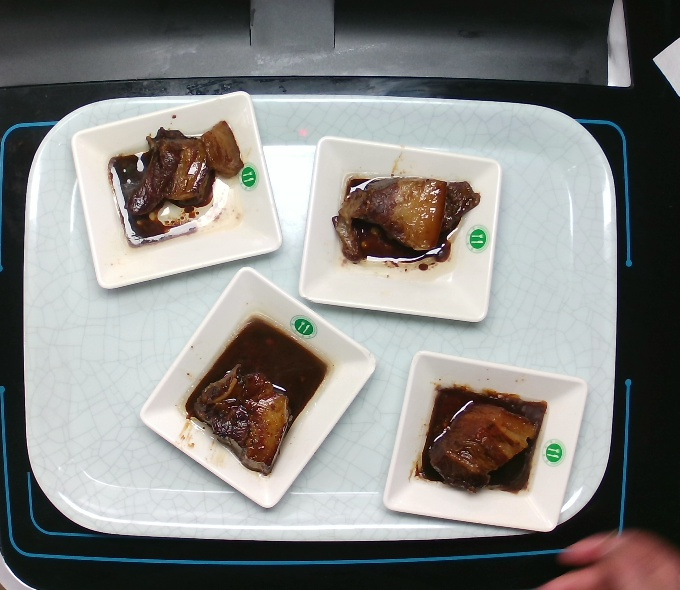wcq-DaKuaiRou: (175, 313, 341, 474), (104, 115, 262, 251), (401, 376, 552, 501), (328, 158, 487, 275)
